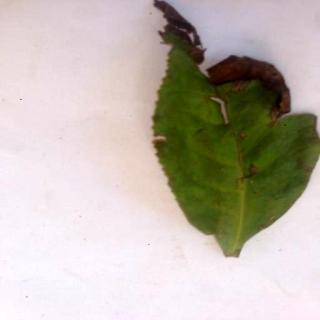Brown Blight: (152, 1, 320, 257)
